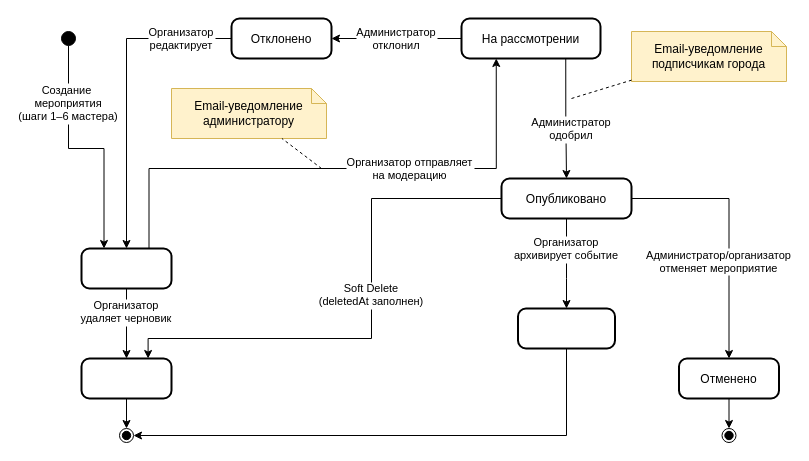
This 809x461 diagram has some shape labels left out. Each missing label, with the centre of its shape:
"Завершено" goes at pixel 566 328.
"Удалено" goes at pixel 126 378.
"Черновик" goes at pixel 126 268.
